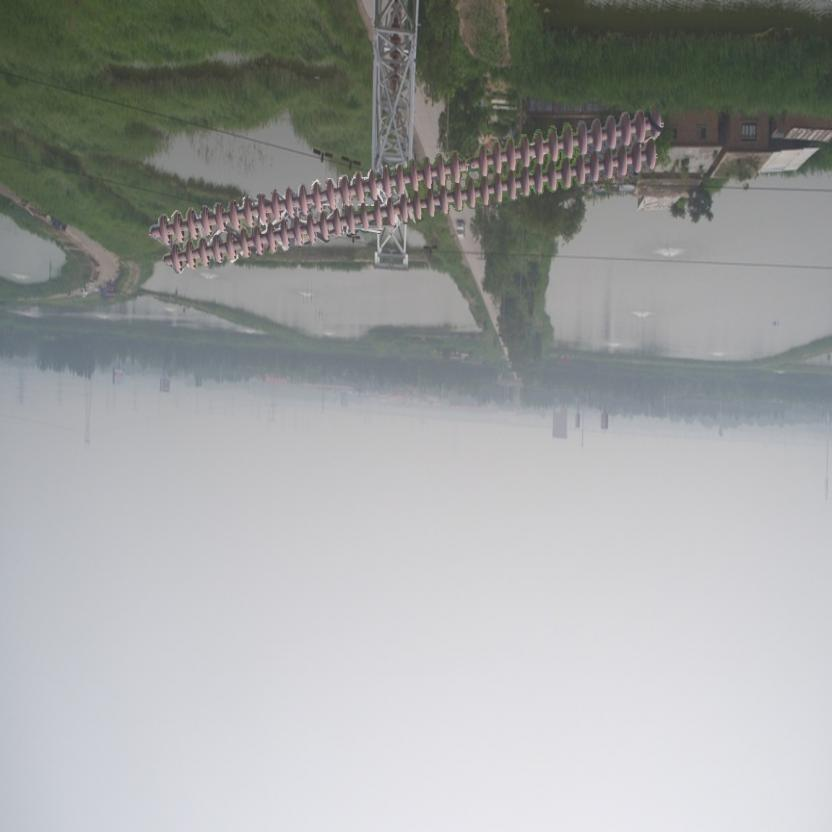defect: (445, 148, 491, 190)
